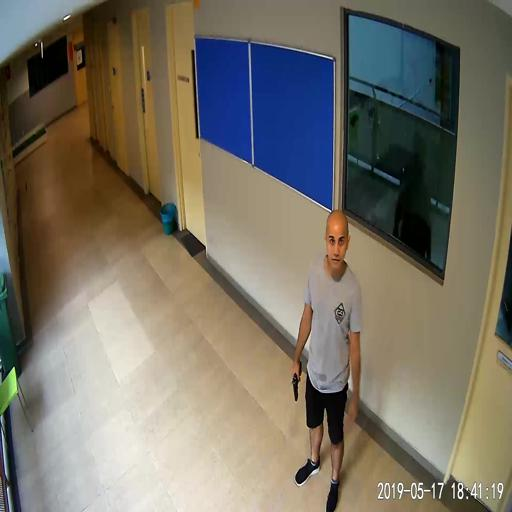pistol: (292, 358, 302, 401)
